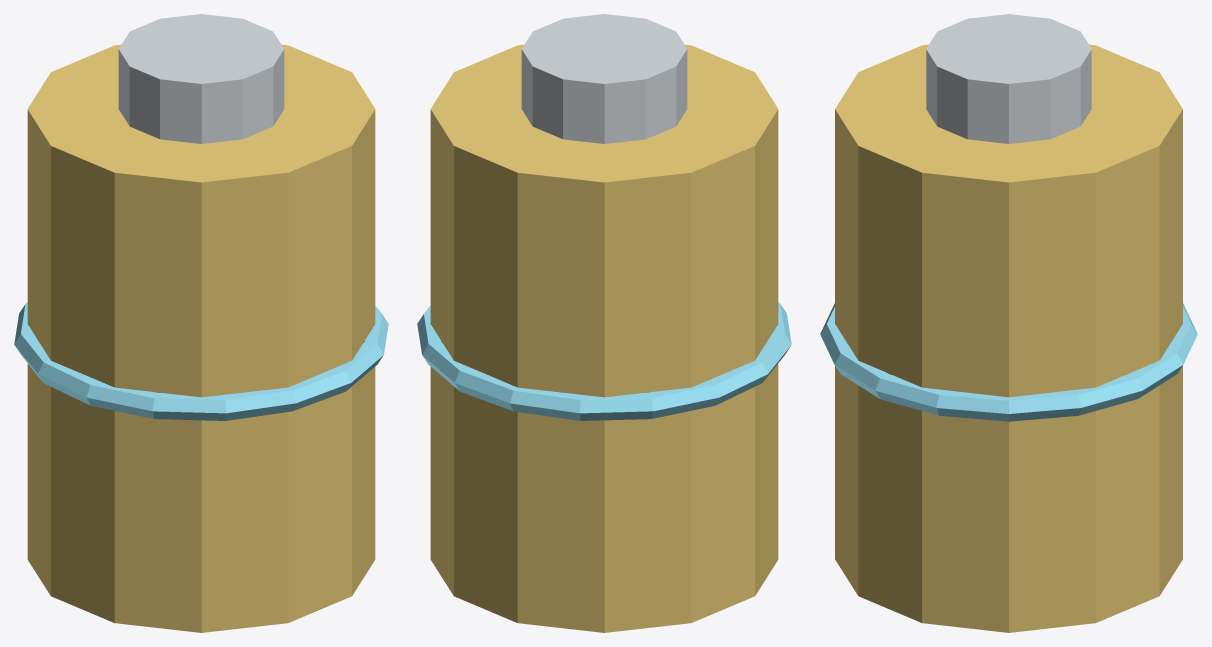
File: bateria_0.glb
The picture shows the model from 3 angles, left to right: view 1: azimuth 30°, elevation 25°; view 2: azimuth 150°, elevation 25°; view 3: azimuth 270°, elevation 25°; orthographic projection.
Parts seen in each view (by area): view 1: celda, polo, franja; view 2: celda, polo, franja; view 3: celda, polo, franja.
Part boxes in pixels (bbox=[...]): celda: bbox=[27, 44, 375, 632]; polo: bbox=[118, 14, 284, 143]; franja: bbox=[14, 302, 388, 420]; celda: bbox=[430, 44, 778, 632]; polo: bbox=[521, 14, 687, 143]; franja: bbox=[417, 302, 791, 420]; celda: bbox=[835, 44, 1182, 632]; polo: bbox=[926, 14, 1091, 143]; franja: bbox=[820, 303, 1197, 421].
Bounding box in the file's own units: 0.6035 × 0.9 × 0.6035.
